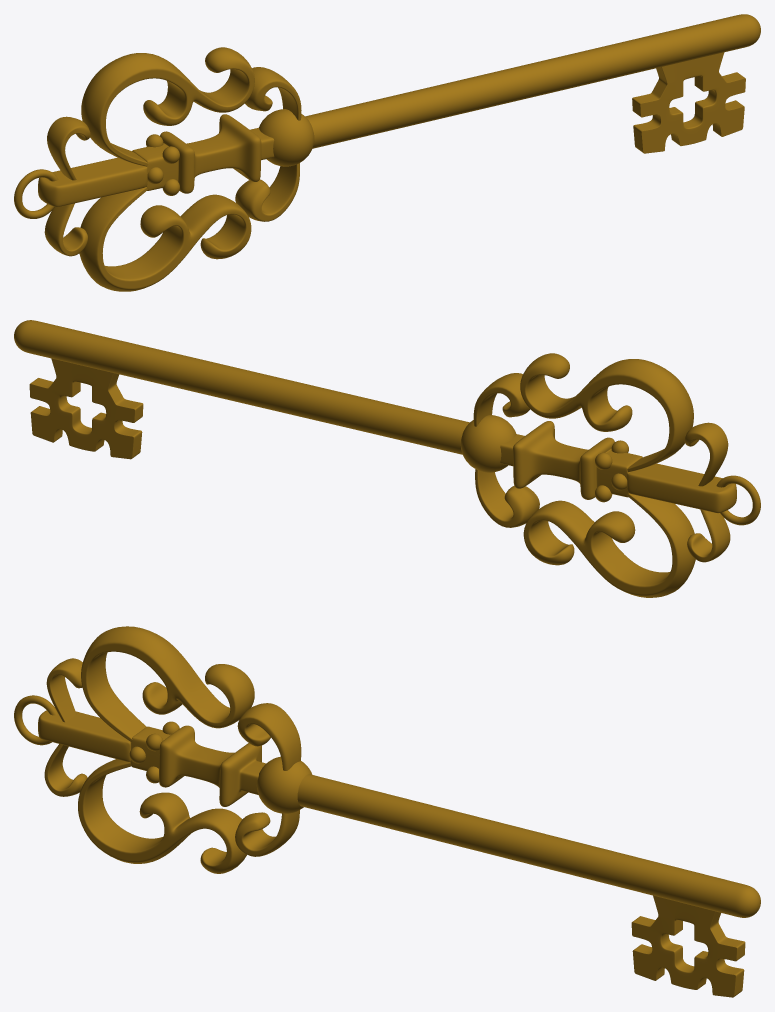
The model's file is FullKey.FBX.
The picture shows the model from 3 angles, top to bottom: view 1: azimuth 30°, elevation 25°; view 2: azimuth 150°, elevation 25°; view 3: azimuth 330°, elevation 25°; orthographic projection.
Visible parts, largest first — view 1: Sphere18; view 2: Sphere18; view 3: Sphere18.
Boxes of the visible parts, bbox=[...] form: Sphere18: bbox=[14, 14, 760, 291]; Sphere18: bbox=[14, 320, 760, 597]; Sphere18: bbox=[14, 626, 760, 997].
Size of the model in its own units: 56.08 by 16.8 by 4.73.
